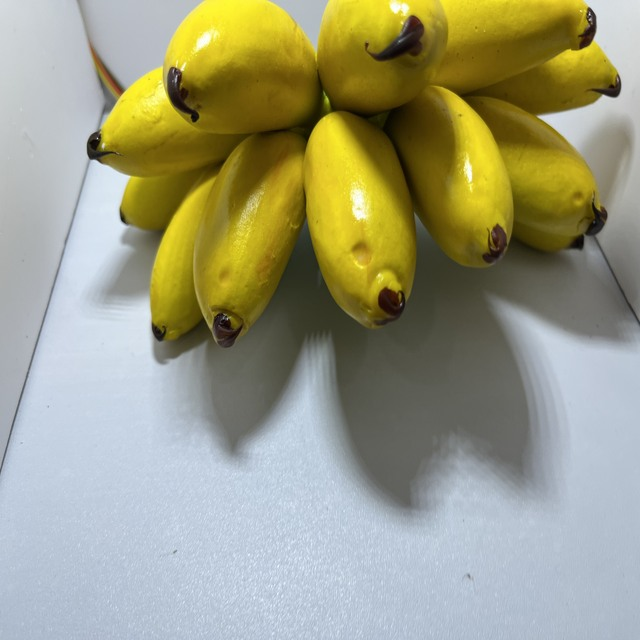Chuoi: (80, 0, 629, 356)
